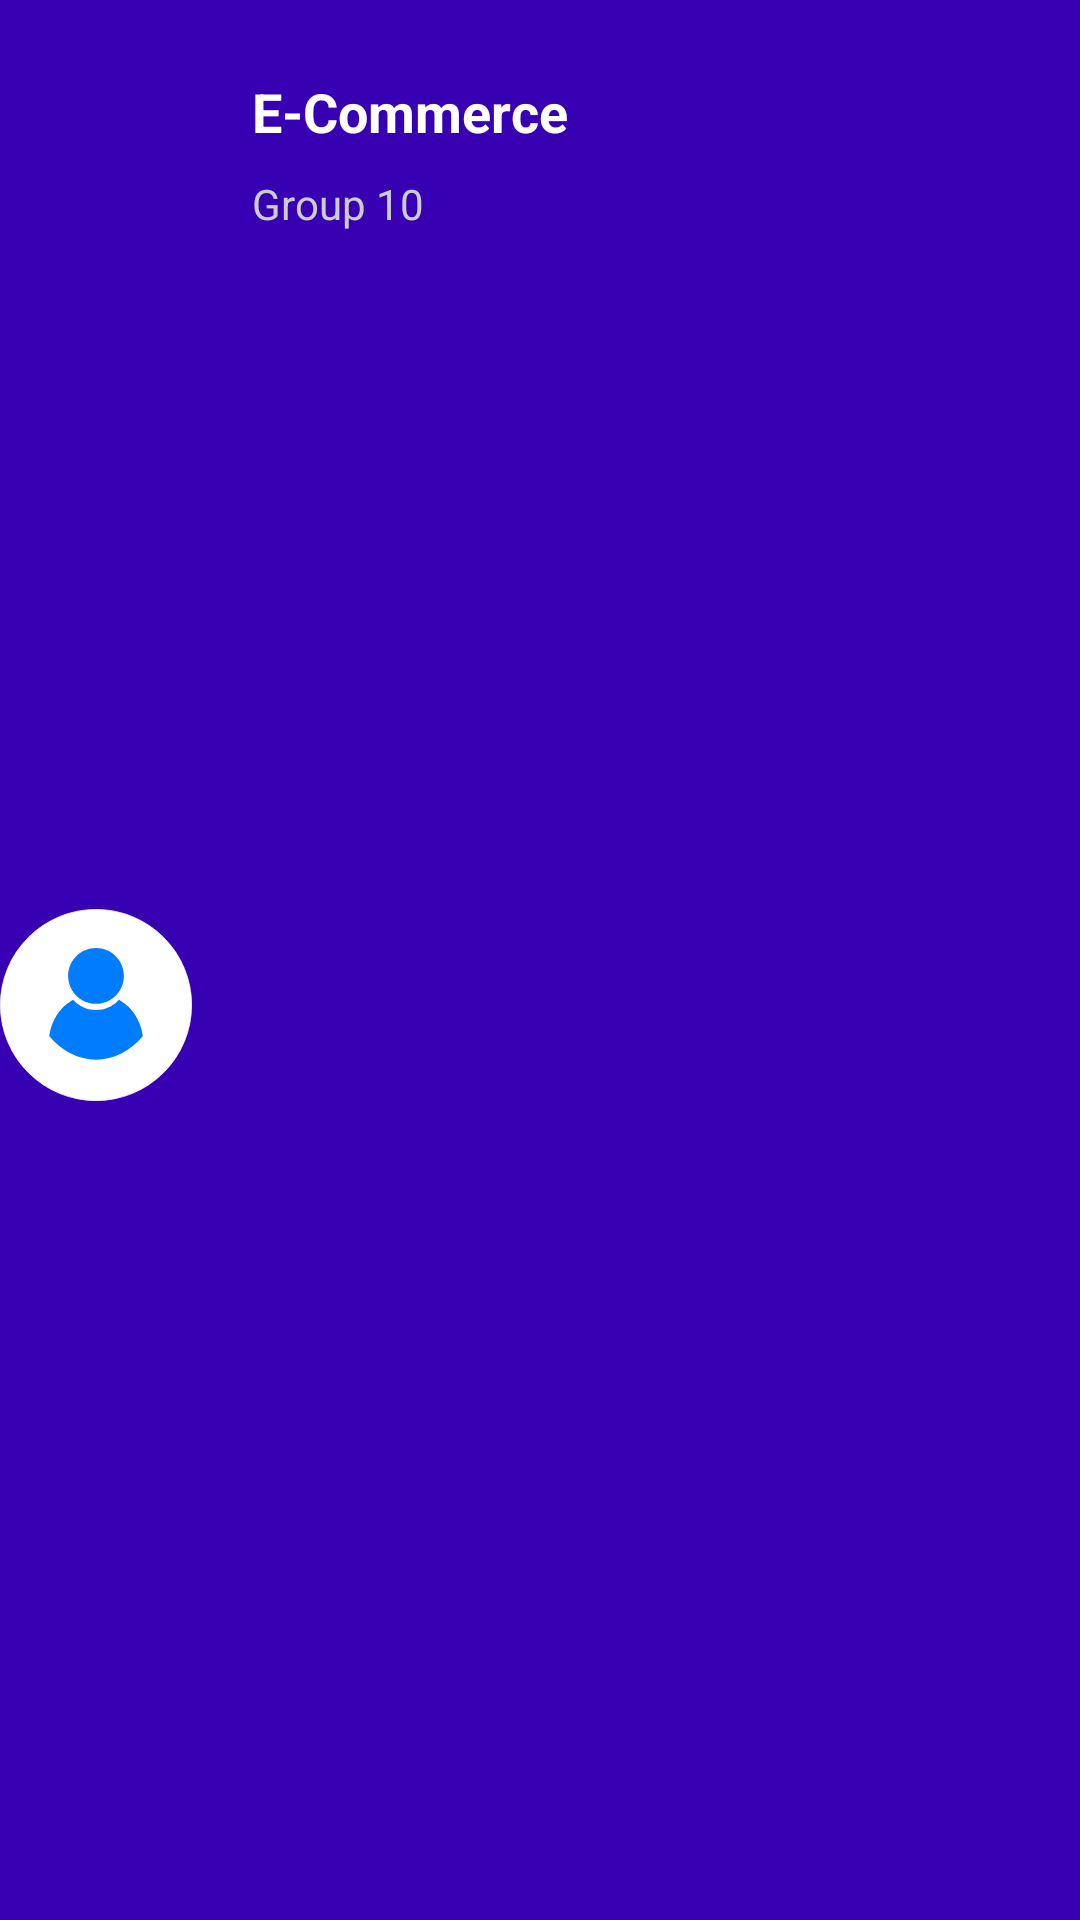

Named icons in this screenshot (1080*1920) and their centers, (x,y):
customer profile: (96,1005)
